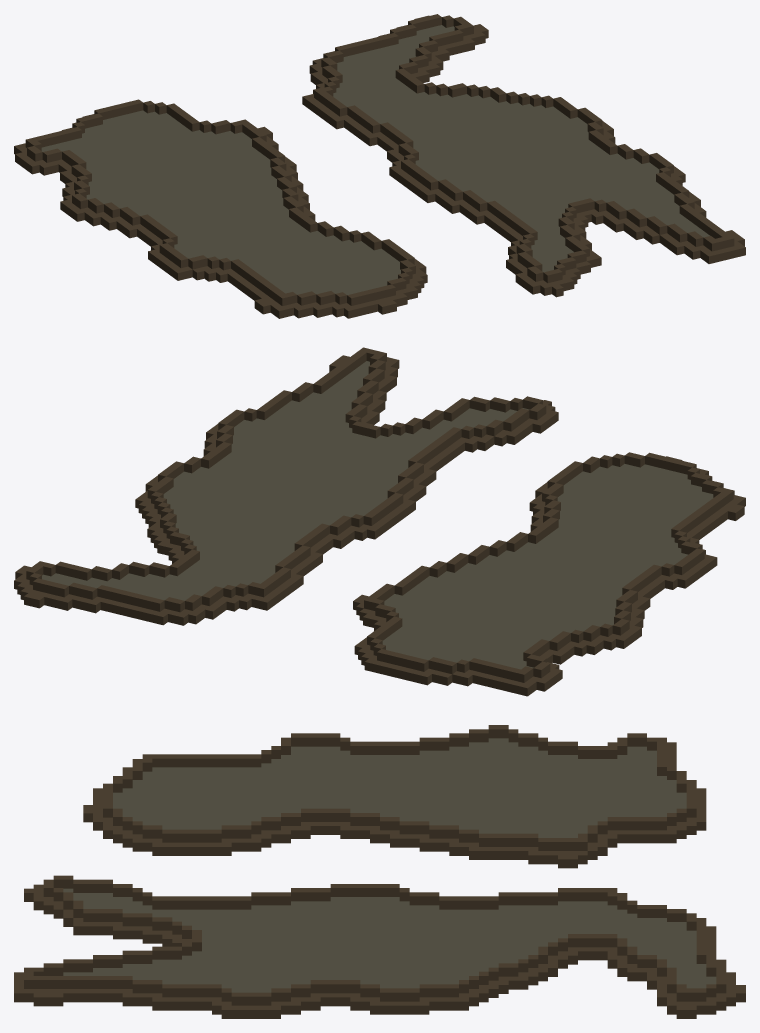
The model's file is ground_hole_4.obj.
3 renders of one model, top to bottom at view 1: azimuth 30°, elevation 25°; view 2: azimuth 150°, elevation 25°; view 3: azimuth 270°, elevation 25°, orthographic. The views are drawn at different scales.
Bounding box in the file's own units: 6.7 × 0.2 × 7.4.
Materials: 1 (1 with a texture image).
